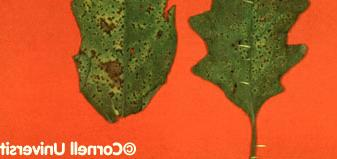Tomato Septoria leaf spot: (187, 0, 311, 131), (65, 0, 178, 126)
